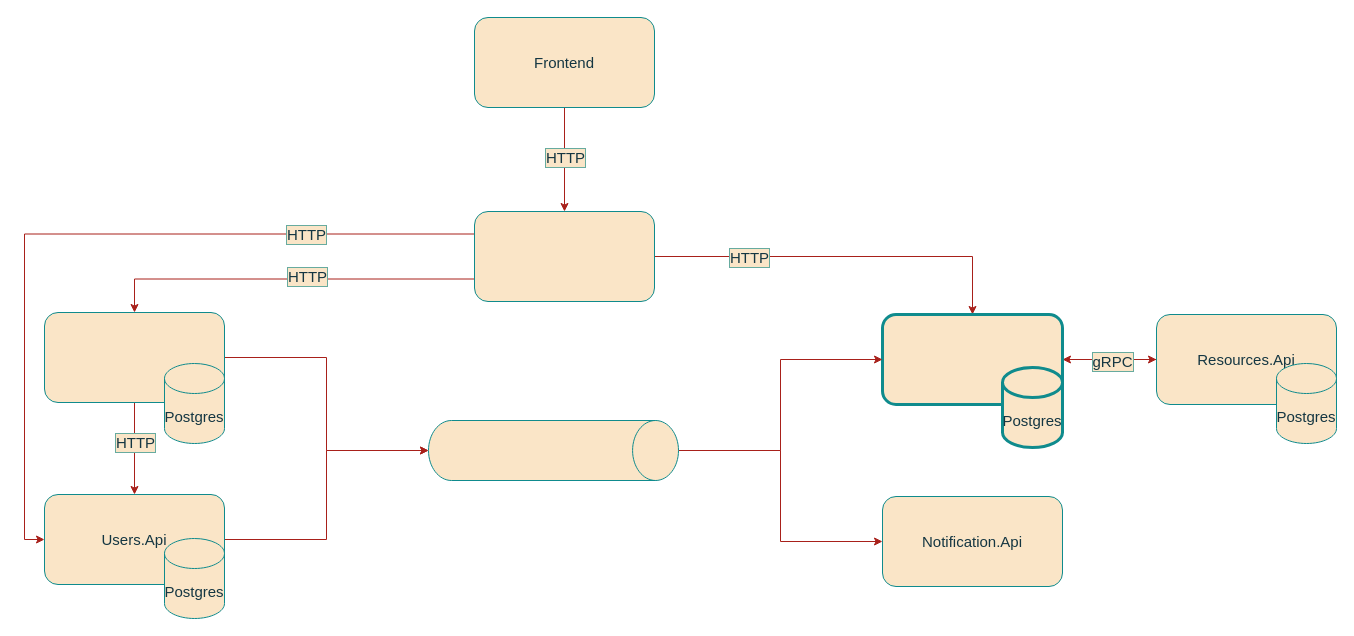
The diagram is 1354 pixels wide and 636 high, and some of its shapes have lost their labels. Each missing label, with the centre of its shape:
"Authentication.Api" goes at pixel 134 357.
"Gateway.Api" goes at pixel 564 256.
"RabbitMQ" goes at pixel 553 450.
"SupportTickets.Api" goes at pixel 972 359.
